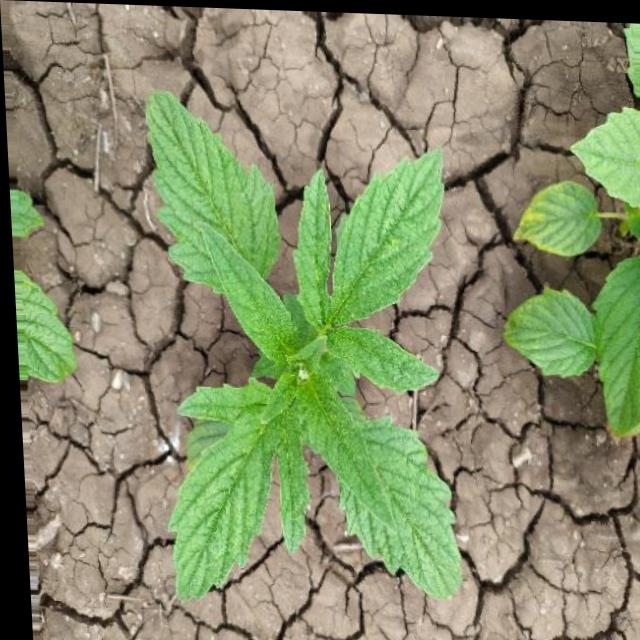crop: (117, 84, 473, 628)
